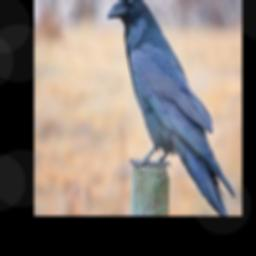Crow: (105, 0, 235, 215)
